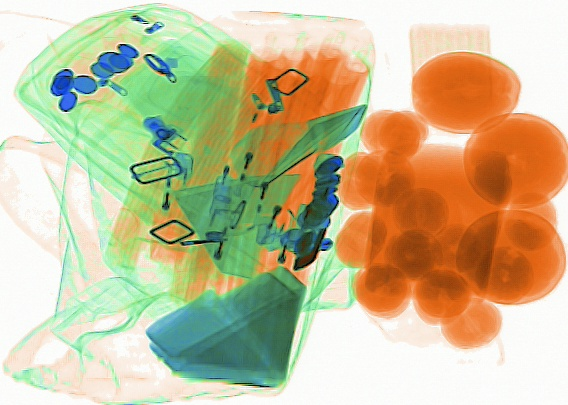lighter: (181, 205, 235, 311), (263, 201, 310, 306), (149, 150, 192, 258), (227, 122, 281, 200), (254, 166, 303, 250), (212, 129, 243, 208)
